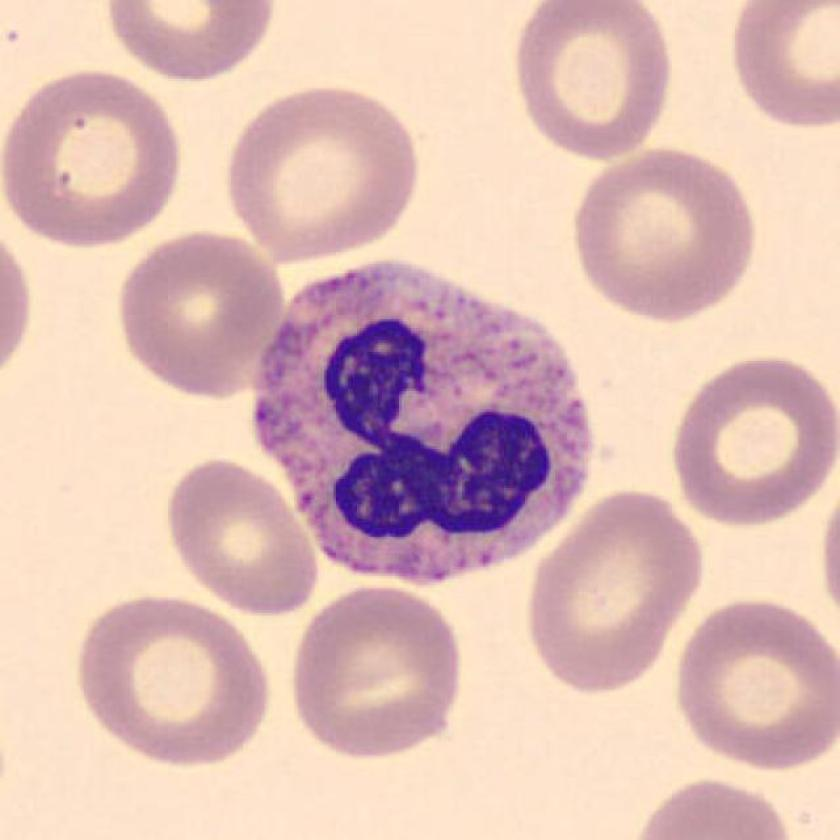neutrophil: (255, 262, 591, 585)
